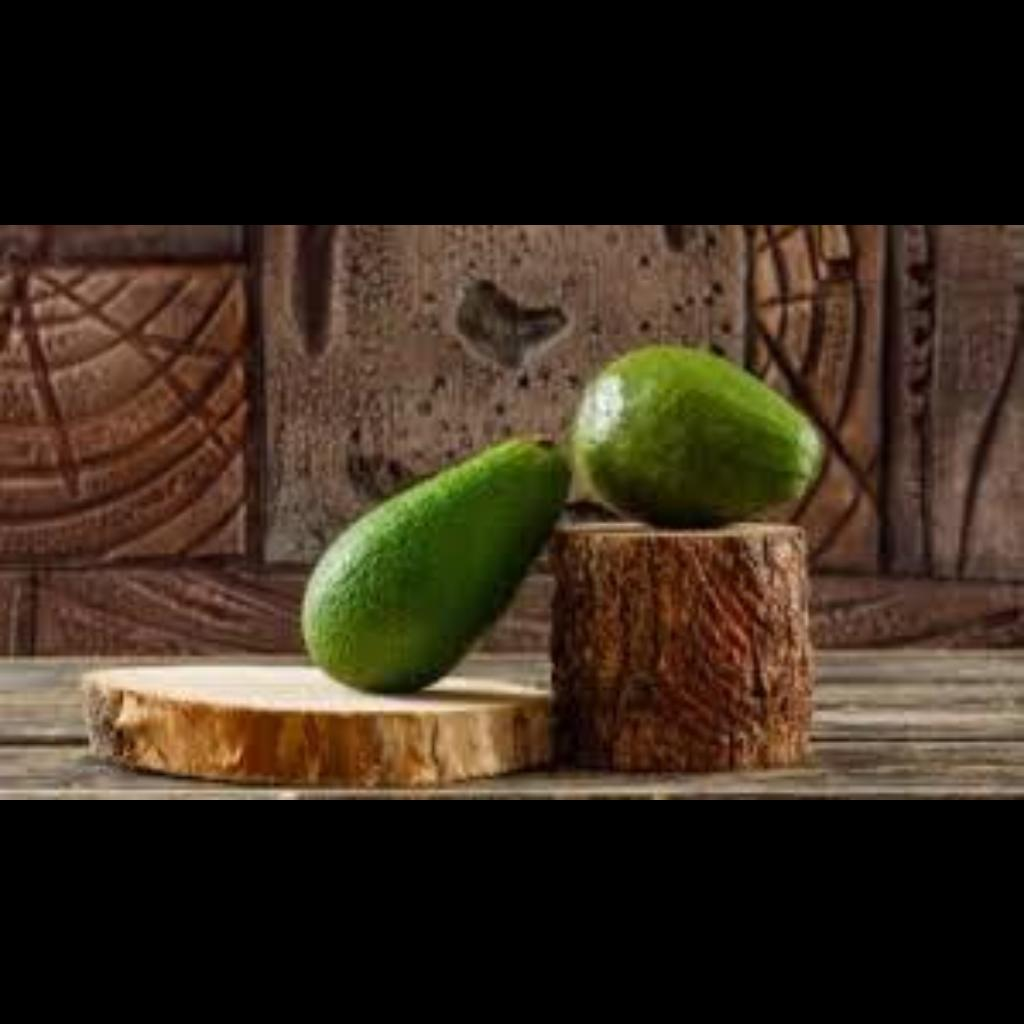cercospora: (546, 311, 882, 521), (274, 434, 565, 674)
